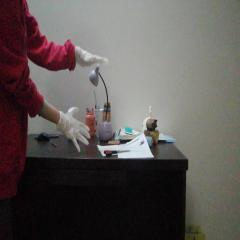gloved: (60, 108, 90, 152), (76, 46, 110, 67)
